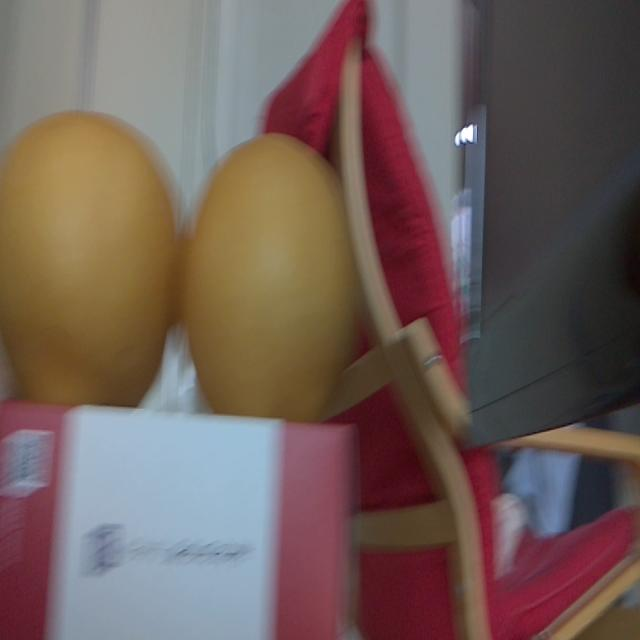pear: (2, 112, 176, 406), (187, 133, 355, 411)
